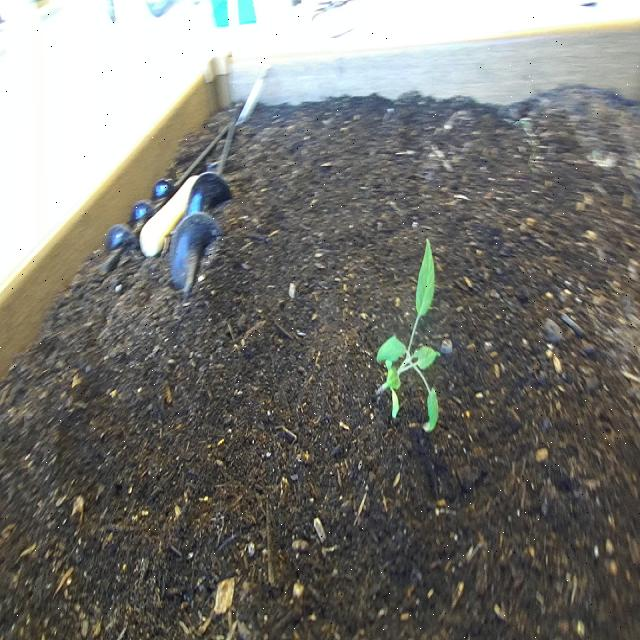Healthy: (368, 222, 448, 456)
